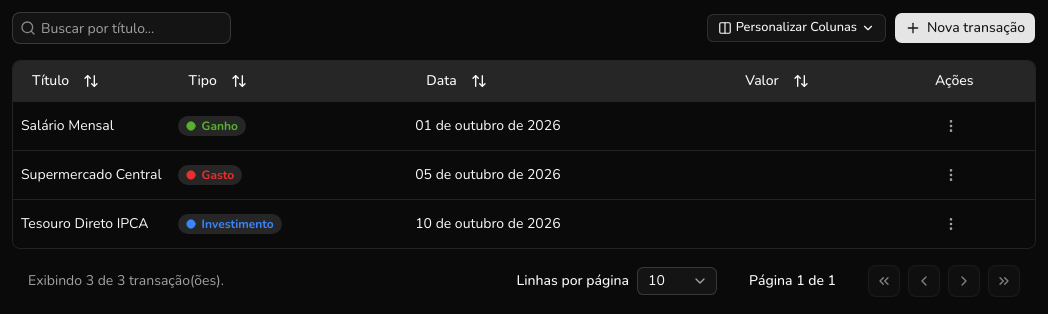
Test: TransactionsTable Component › hides column header and cells when toggling column visibility in customize columns dropdown
This screenshot has width=1048, height=314.
Expected: the button "Tipo" is shown, [178,65,258,97]
Expected: the button "Título" is shown, [21,65,110,97]
Step 1. Click the button "Personalizar Colunas" → {"x": 796, "y": 28}, box [707,14,886,42]
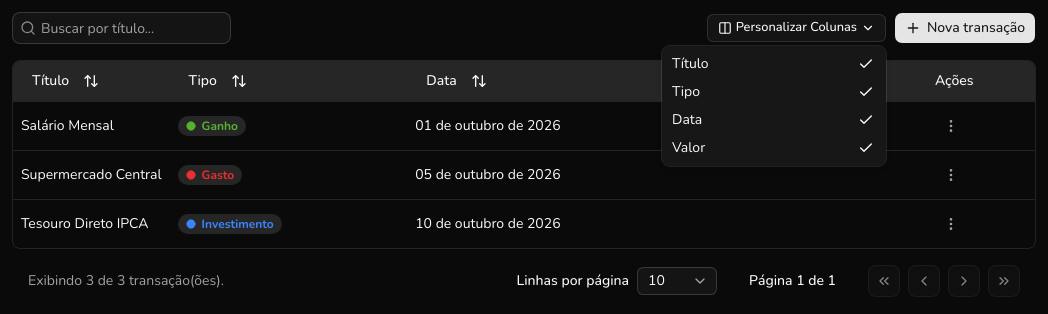
Step 2. Click the menu item "Tipo" → {"x": 866, "y": 92}, box [666,78,882,106]
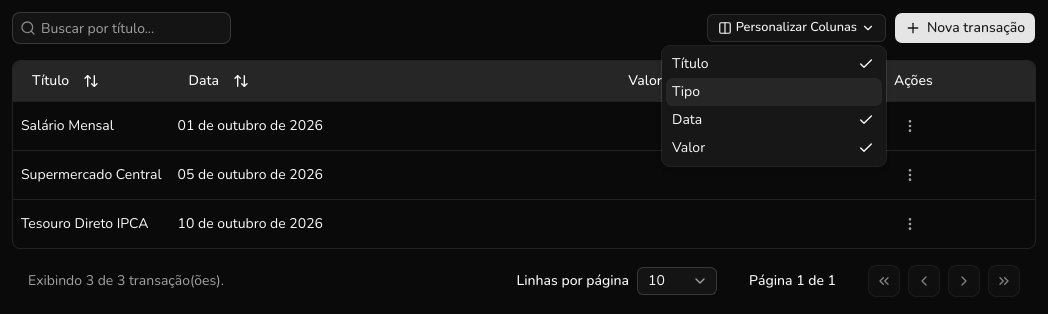
Expected: the button "Título" is shown, [21,65,110,97]
Expected: the button "Valor" is shown, [617,65,703,97]
Step 3. Click the menu item "Título" → {"x": 690, "y": 64}, box [666,50,882,78]
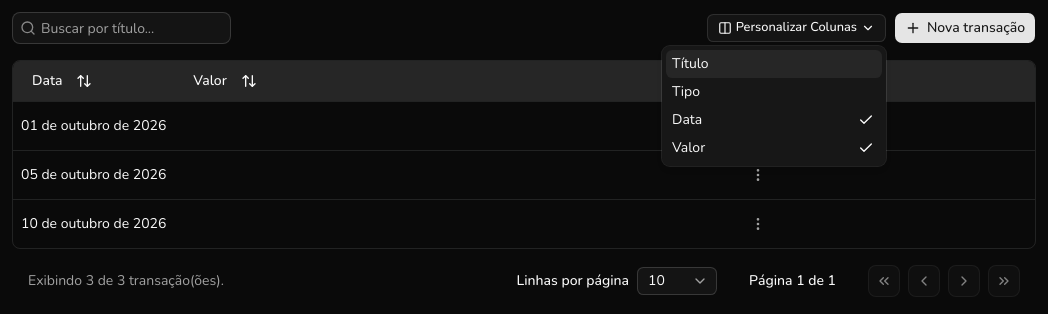
Step 4. Click the menu item "Valor" → {"x": 689, "y": 148}, box [666,134,882,162]
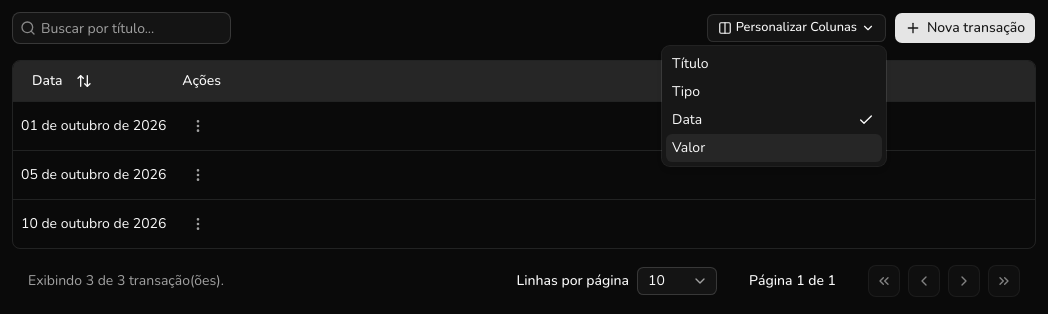
// Re-check "Tipo"
Step 5. Click the menu item "Tipo" → {"x": 686, "y": 92}, box [672,82,700,101]
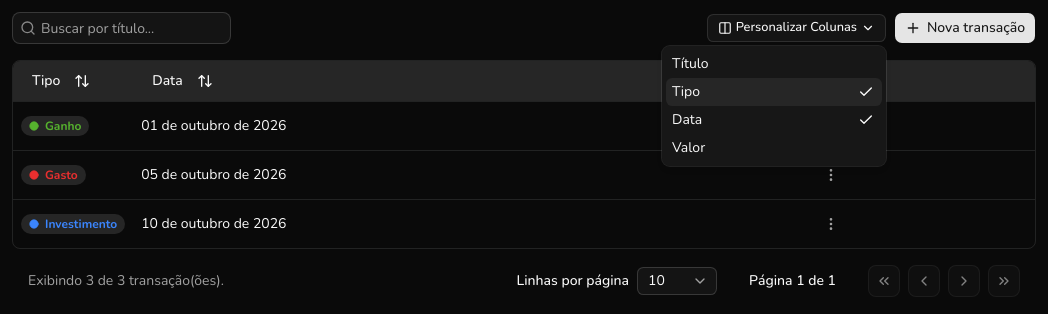
Expected: the button "Tipo" is shown, [21,65,101,97]
